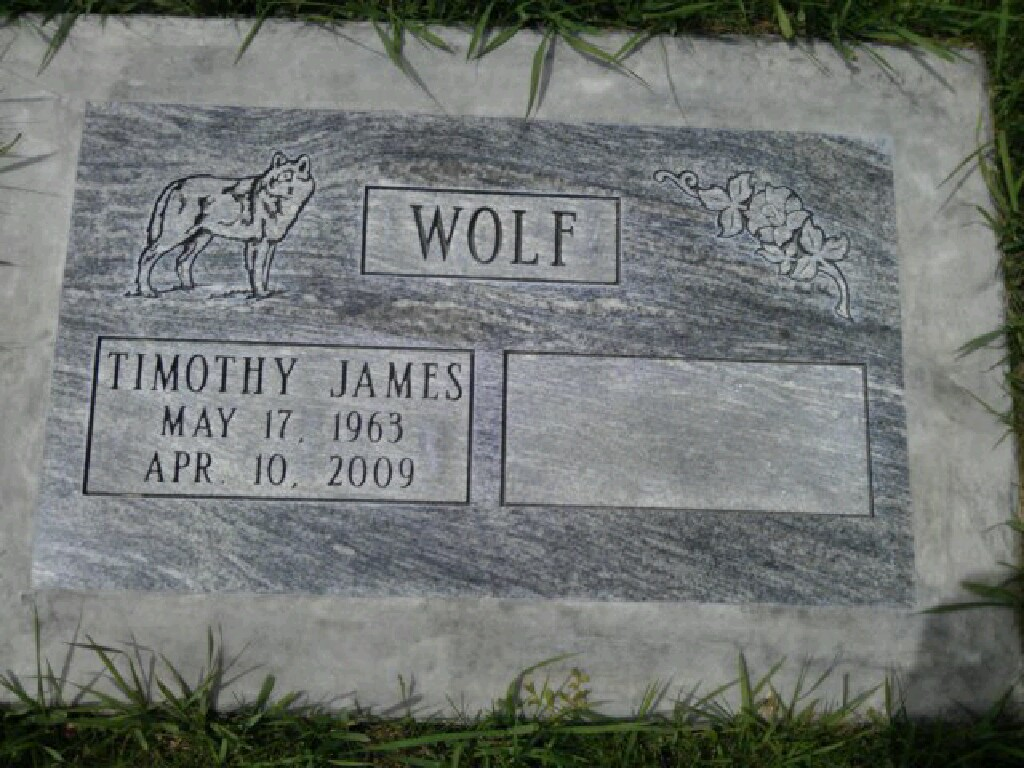flat: (27, 94, 919, 614)
